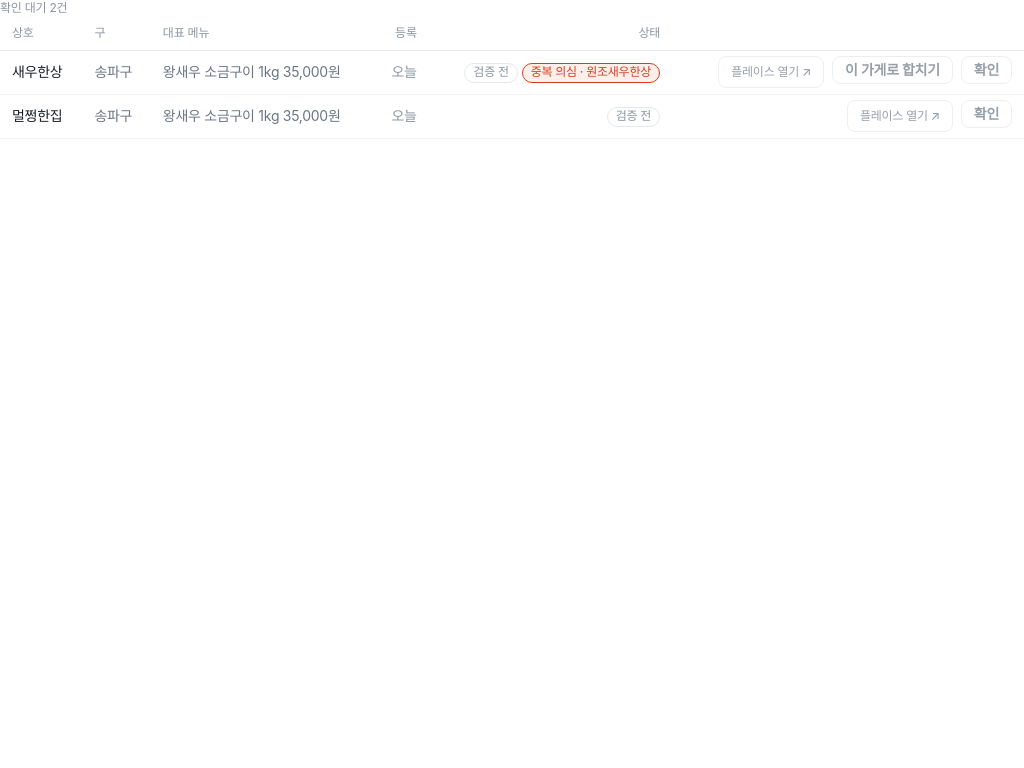
Test: 사후 확인 탭 (design 화면 10-1) › 중복 의심 제보는 배지에 후보 상호 + [이 가게로 합치기] — 확인 시트에서 합치면 목록에서 빠진다
Check: the text "중복 의심 · 원조새우한상" is shown, box [522,63,660,83]
Click the button "이 가게로 합치기" at (892, 70), box [832,56,953,84]
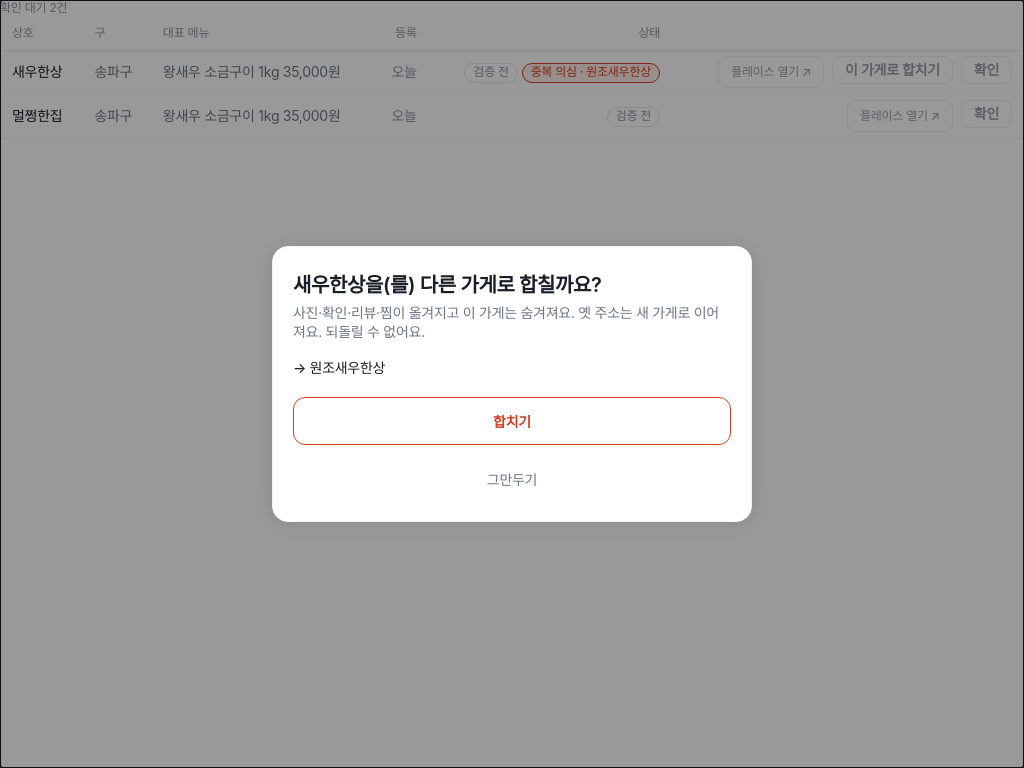
Check: the text "→ 원조새우한상" is shown, box [293,359,385,376]
Click the button "합치기" at (512, 421), box [293,397,731,445]
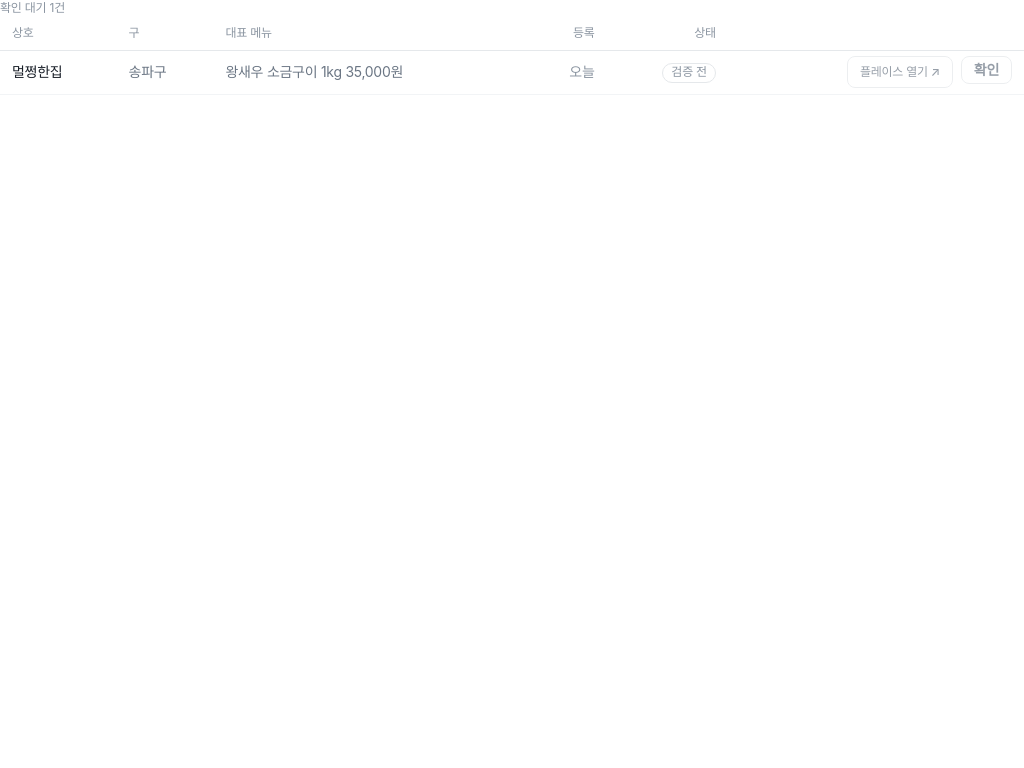
Check: the text "멀쩡한집" is shown, box [0,50,117,94]
Check: the text "새우한상" is gone
